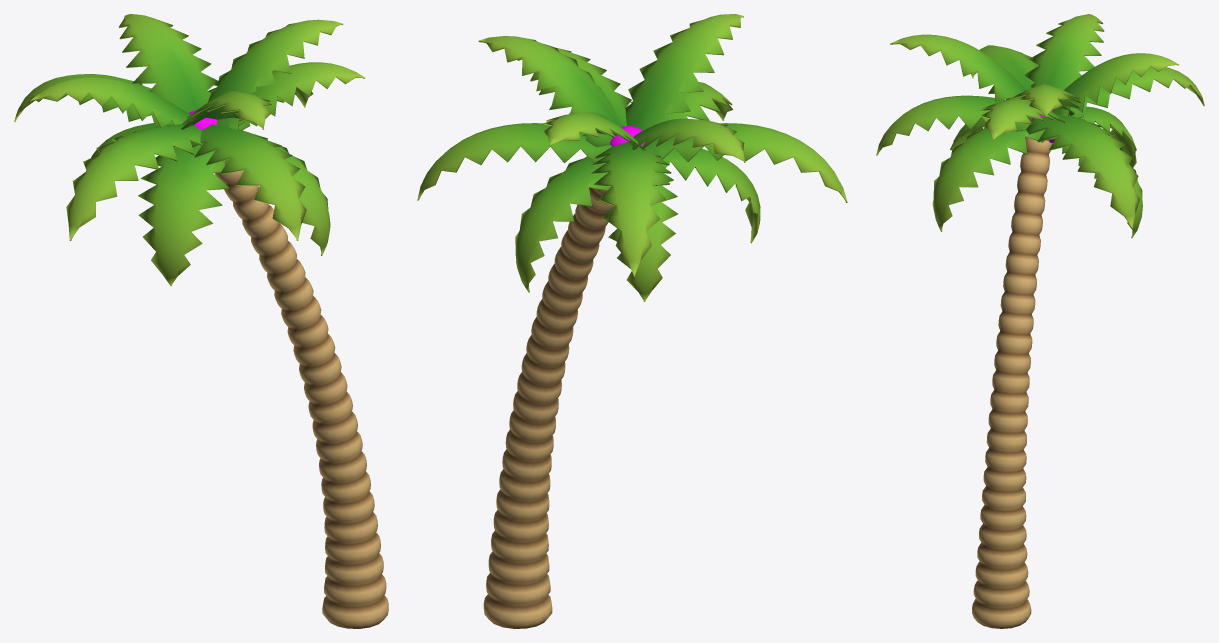
The model's file is palm_b.glb.
3 views of the same model, side by side, from view 1: azimuth 30°, elevation 25°; view 2: azimuth 150°, elevation 25°; view 3: azimuth 270°, elevation 25° (orthographic). The views are drawn at different scales.
Parts seen in each view (by area): view 1: palm_b; view 2: palm_b; view 3: palm_b.
Part boxes in pixels (x1=…): palm_b: x1=14, y1=14, x2=388, y2=628; palm_b: x1=417, y1=14, x2=847, y2=628; palm_b: x1=876, y1=14, x2=1204, y2=628.
Bounding box in the file's own units: 4.86 × 8.18 × 4.71.
